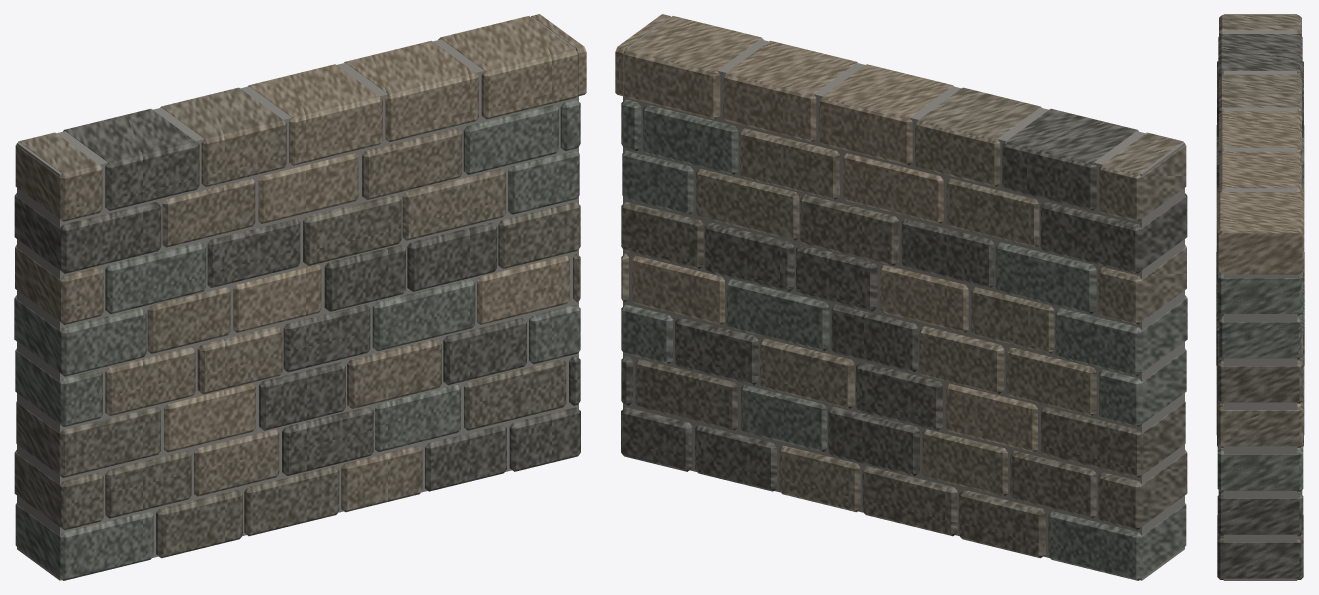
File: wall_4m.glb
3 renders of one model, left to right at view 1: azimuth 30°, elevation 25°; view 2: azimuth 150°, elevation 25°; view 3: azimuth 270°, elevation 25°, orthographic. The views are drawn at different scales.
Parts seen in each view (by area): view 1: Wall_4m_000, Wall_4m_050, Wall_4m_046, Wall_4m_048, Wall_4m_049, Wall_4m_047, Wall_4m_039, Wall_4m_014, Wall_4m_001, Wall_4m_027, Wall_4m_045, Wall_4m_024 (+38 smaller); view 2: Wall_4m_000, Wall_4m_050, Wall_4m_046, Wall_4m_048, Wall_4m_049, Wall_4m_047, Wall_4m_039, Wall_4m_014, Wall_4m_001, Wall_4m_027, Wall_4m_045, Wall_4m_024 (+38 smaller); view 3: Wall_4m_000, Wall_4m_051, Wall_4m_050, Wall_4m_006, Wall_4m_032, Wall_4m_019, Wall_4m_013, Wall_4m_026, Wall_4m_046, Wall_4m_049, Wall_4m_048, Wall_4m_038 (+8 smaller).
Part boxes in pixels (x1,y1,x2,y2): Wall_4m_000: [17, 17, 578, 580]; Wall_4m_050: [438, 16, 578, 119]; Wall_4m_046: [63, 108, 199, 210]; Wall_4m_048: [248, 64, 382, 165]; Wall_4m_049: [344, 40, 478, 141]; Wall_4m_047: [160, 87, 286, 186]; Wall_4m_039: [14, 193, 161, 273]; Wall_4m_014: [16, 401, 160, 477]; Wall_4m_001: [15, 503, 153, 580]; Wall_4m_027: [14, 295, 146, 376]; Wall_4m_045: [15, 132, 102, 221]; Wall_4m_024: [372, 279, 475, 350]; Wall_4m_000: [623, 17, 1184, 580]; Wall_4m_050: [623, 16, 763, 119]; Wall_4m_046: [1002, 108, 1138, 210]; Wall_4m_048: [819, 64, 953, 165]; Wall_4m_049: [723, 40, 857, 141]; Wall_4m_047: [915, 87, 1041, 186]; Wall_4m_039: [1040, 193, 1187, 273]; Wall_4m_014: [1041, 401, 1185, 477]; Wall_4m_001: [1048, 503, 1186, 580]; Wall_4m_027: [1055, 295, 1187, 376]; Wall_4m_045: [1099, 132, 1186, 221]; Wall_4m_024: [726, 279, 829, 350]; Wall_4m_000: [1223, 14, 1297, 580]; Wall_4m_051: [1218, 230, 1302, 274]; Wall_4m_050: [1217, 192, 1303, 268]; Wall_4m_006: [1217, 515, 1303, 579]; Wall_4m_032: [1218, 333, 1302, 403]; Wall_4m_019: [1217, 445, 1303, 491]; Wall_4m_013: [1217, 493, 1303, 535]; Wall_4m_026: [1217, 406, 1303, 447]; Wall_4m_046: [1218, 34, 1302, 108]; Wall_4m_049: [1219, 151, 1301, 192]; Wall_4m_048: [1219, 111, 1301, 185]; Wall_4m_038: [1219, 314, 1301, 359].
Bounding box in the file's own units: 4.01 × 2.98 × 0.6797.
6 materials, 5 textured.
